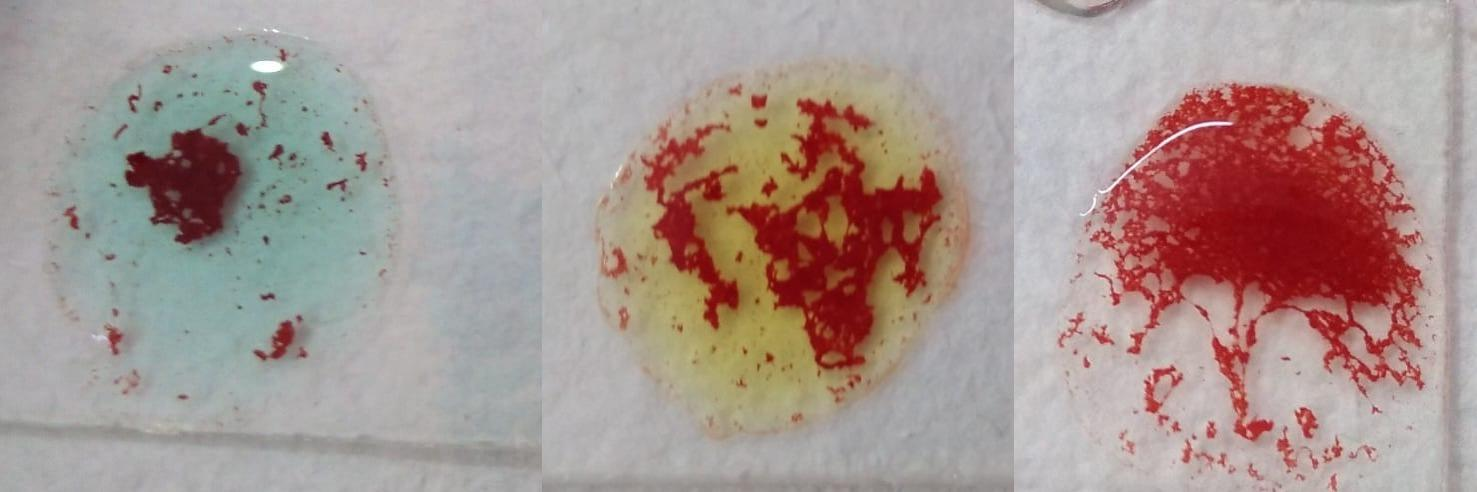A: (73, 27, 389, 403)
B: (604, 66, 973, 434)
D: (1080, 86, 1436, 476)
